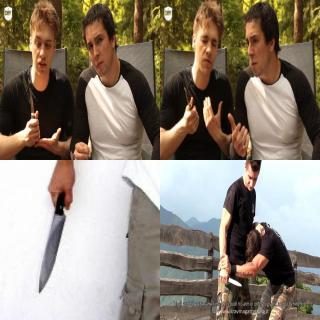knife: (34, 181, 74, 301), (181, 82, 200, 130), (25, 85, 41, 135), (217, 268, 242, 288)
